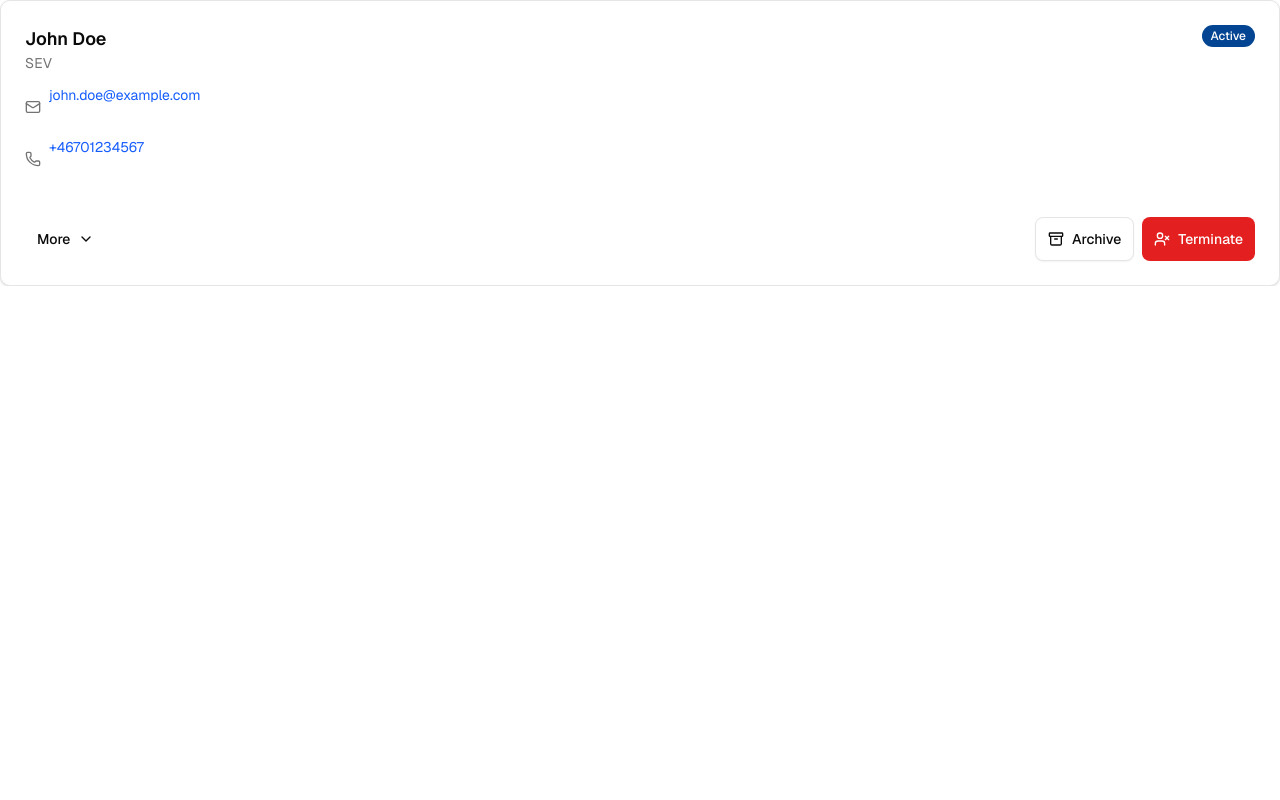
Test: EmployeeCard - Field Visibility and Permissions › AC2: Field Visibility and Permissions Tests › should display field labels matching column configuration names
Step 1. Click the button with aria-label "Expand details" → (66, 239), box x1=25 y1=217 x2=106 y2=261
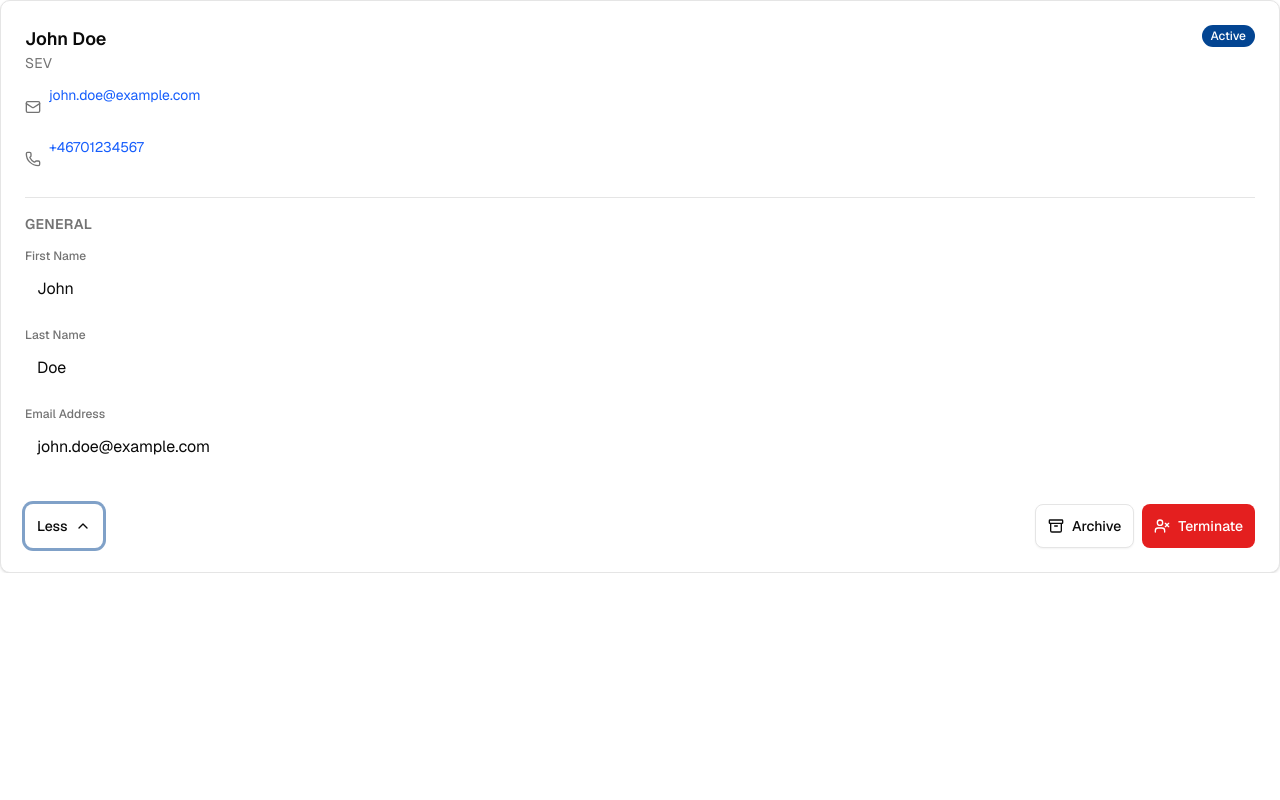
Expected: the text "First Name" is shown, x1=25 y1=248 x2=86 y2=264
Expected: the text "Last Name" is shown, x1=25 y1=327 x2=86 y2=343
Expected: the text "Email Address" is shown, x1=25 y1=406 x2=105 y2=422
